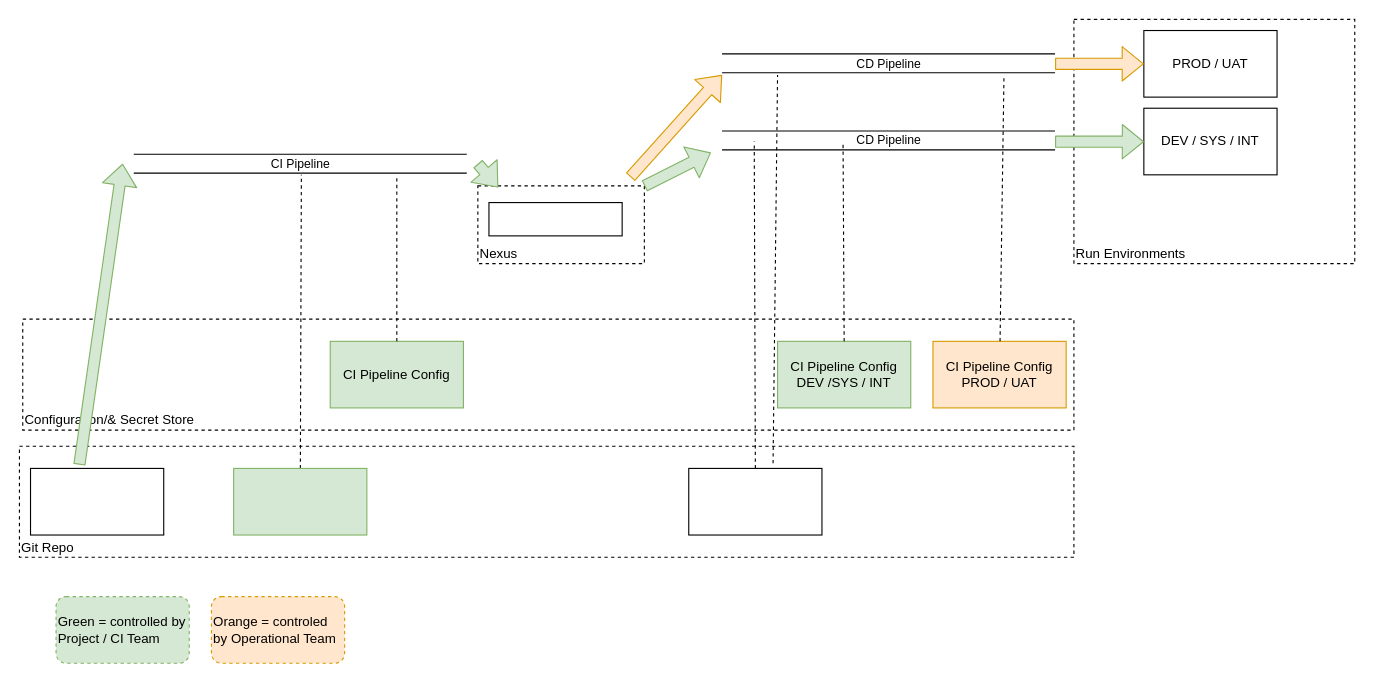
Some shapes in this 1374 by 683 pixel diagram are drawn without their labels. The centre of each missing label's shape, as x and y in pixels:
"Application Artefacts" goes at point 555,218.
"Application Code" goes at point 96,501.
"CD Pipeline Code" goes at point 755,501.
"CI Pipeline Code" goes at point 300,501.
